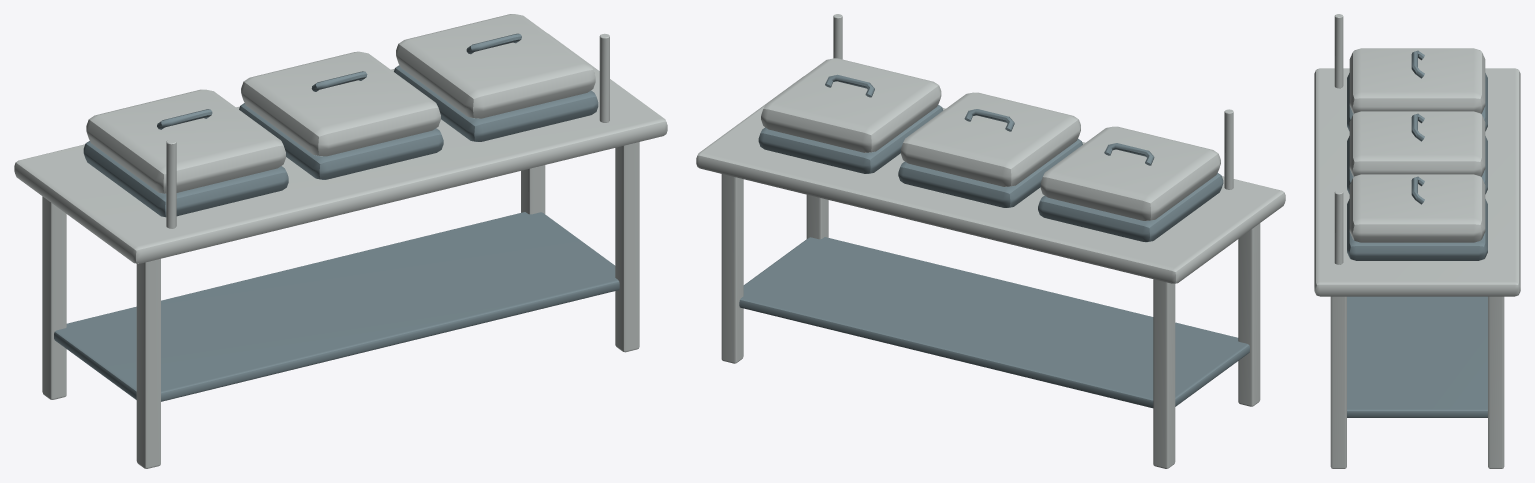
Rendered from buffet-table.glb.
3 renders of one model, left to right at view 1: azimuth 30°, elevation 25°; view 2: azimuth 150°, elevation 25°; view 3: azimuth 270°, elevation 25°, orthographic. The views are drawn at different scales.
Visible parts, largest first — view 1: lower_shelf, buffet_top, serving_lid.001, serving_lid.002, serving_lid, leg_0_1, leg_1_1, leg_0_0, chafing_dish_base, chafing_dish_base.001, chafing_dish_base.002, leg_1_0 (+2 smaller); view 2: lower_shelf, buffet_top, serving_lid, serving_lid.002, serving_lid.001, leg_0_0, leg_1_0, chafing_dish_base, leg_0_1, chafing_dish_base.002, chafing_dish_base.001, leg_1_1 (+1 smaller); view 3: buffet_top, lower_shelf, serving_lid.002, serving_lid, serving_lid.001, chafing_dish_base.002, leg_1_0, leg_1_1, utensil_support.001, utensil_support, chafing_dish_base, chafing_dish_base.001 (+3 smaller).
Part boxes in pixels (bbox=[...]): lower_shelf: bbox=[54, 212, 619, 401]; buffet_top: bbox=[14, 34, 667, 263]; serving_lid.001: bbox=[241, 51, 440, 156]; serving_lid.002: bbox=[396, 14, 595, 118]; serving_lid: bbox=[86, 89, 285, 193]; leg_0_1: bbox=[136, 258, 160, 468]; leg_1_1: bbox=[615, 142, 639, 352]; leg_0_0: bbox=[42, 196, 66, 399]; chafing_dish_base: bbox=[83, 141, 288, 217]; chafing_dish_base.001: bbox=[239, 103, 443, 179]; chafing_dish_base.002: bbox=[394, 65, 598, 141]; leg_1_0: bbox=[521, 165, 545, 214]; lower_shelf: bbox=[739, 237, 1249, 408]; buffet_top: bbox=[696, 76, 1285, 283]; serving_lid: bbox=[1040, 126, 1220, 220]; serving_lid.002: bbox=[761, 58, 941, 152]; serving_lid.001: bbox=[901, 92, 1080, 186]; leg_0_0: bbox=[1153, 279, 1175, 468]; leg_1_0: bbox=[721, 174, 743, 363]; chafing_dish_base: bbox=[1038, 173, 1223, 242]; leg_0_1: bbox=[1238, 223, 1260, 406]; chafing_dish_base.002: bbox=[758, 104, 943, 173]; chafing_dish_base.001: bbox=[898, 139, 1082, 207]; leg_1_1: bbox=[806, 194, 828, 239]; buffet_top: bbox=[1314, 68, 1520, 296]; lower_shelf: bbox=[1347, 296, 1487, 417]; serving_lid.002: bbox=[1349, 174, 1485, 242]; serving_lid: bbox=[1349, 48, 1485, 113]; serving_lid.001: bbox=[1349, 111, 1485, 176]; chafing_dish_base.002: bbox=[1347, 199, 1487, 260]; leg_1_0: bbox=[1488, 296, 1504, 468]; leg_1_1: bbox=[1330, 296, 1346, 468]; utensil_support.001: bbox=[1334, 190, 1343, 264]; utensil_support: bbox=[1334, 14, 1343, 88]; chafing_dish_base: bbox=[1347, 73, 1487, 131]; chafing_dish_base.001: bbox=[1347, 136, 1487, 194].
Bounding box in the file's own units: 1.9 × 1.08 × 0.76.
